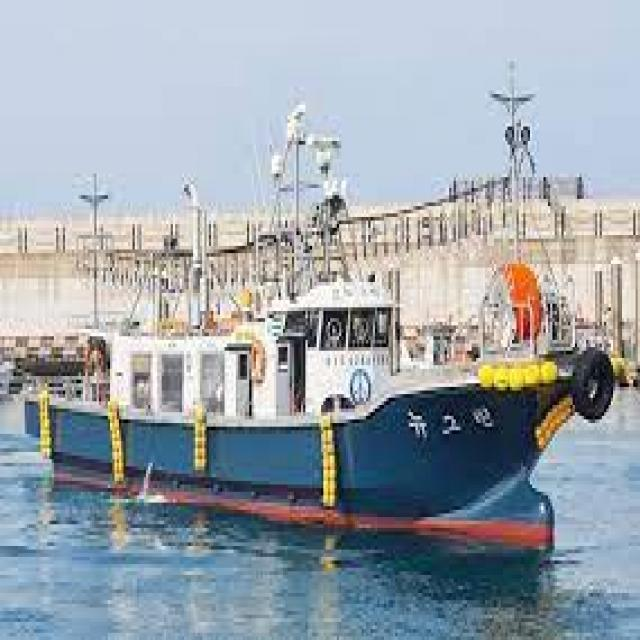Ship: (19, 258, 621, 569)
